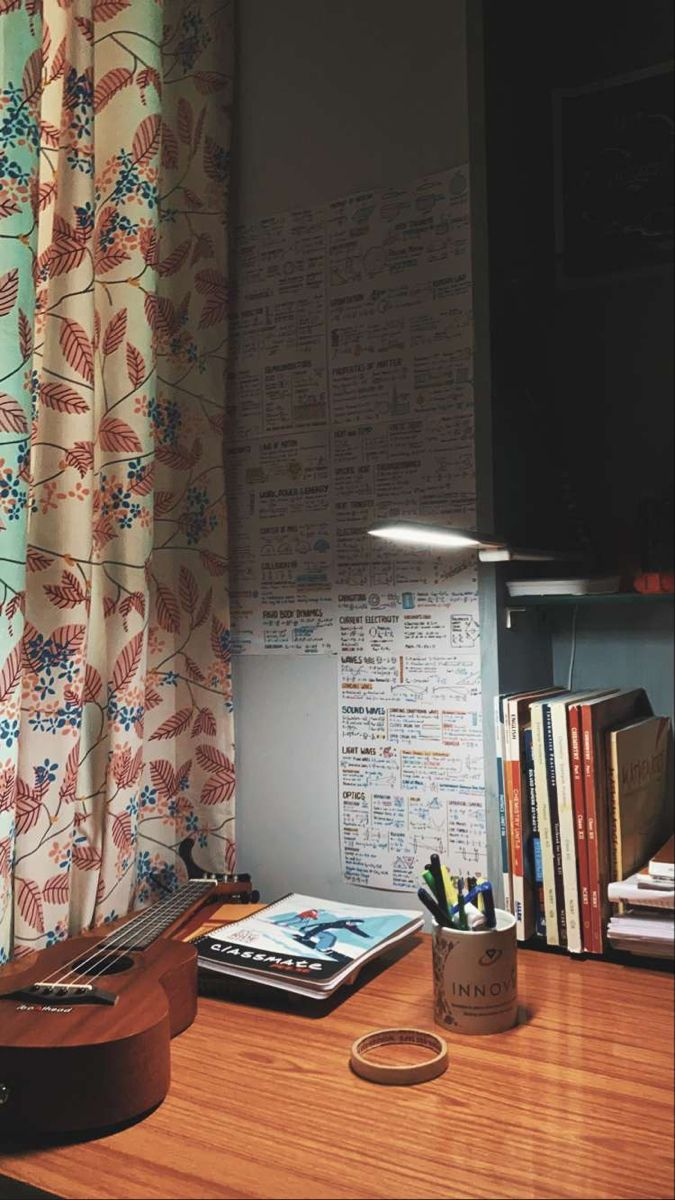not a gesture sign: (5, 31, 262, 895)
